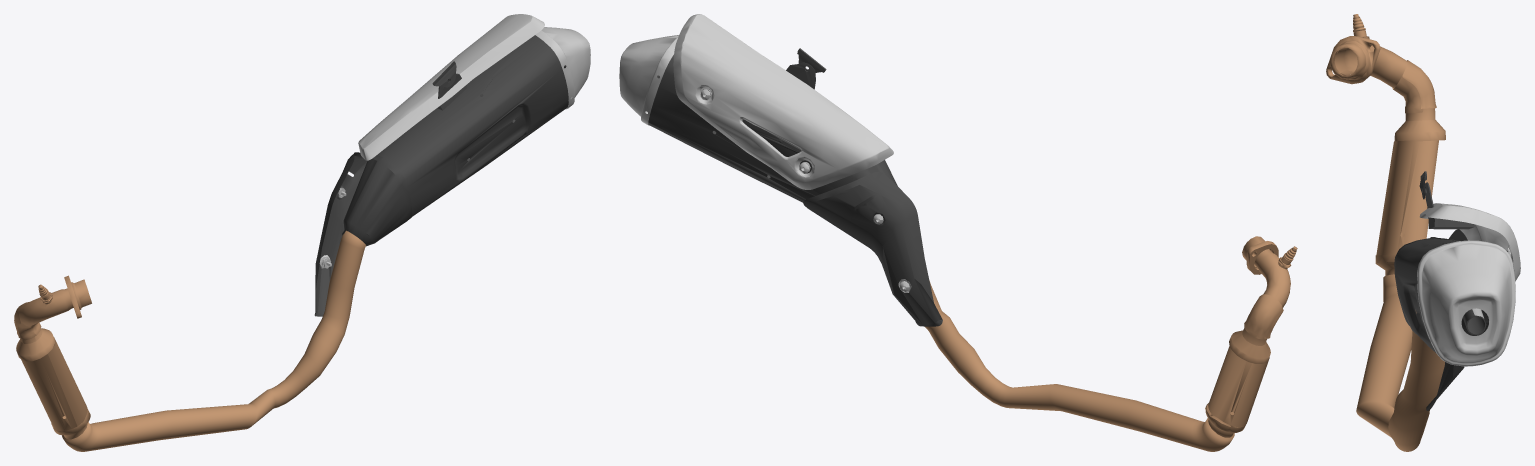
The model's file is Silencer (1).fbx.
3 renders of one model, left to right at view 1: azimuth 30°, elevation 25°; view 2: azimuth 150°, elevation 25°; view 3: azimuth 270°, elevation 25°, orthographic. The views are drawn at different scales.
Visible parts, largest first — view 1: polySurface12146; view 2: polySurface12146; view 3: polySurface12146.
Boxes of the visible parts, x1,y1,x2,y2 form: polySurface12146: (14,14,590,451); polySurface12146: (619,14,1297,451); polySurface12146: (1326,14,1520,451).
Bounding box in the file's own units: 321 × 163 × 67.73.
